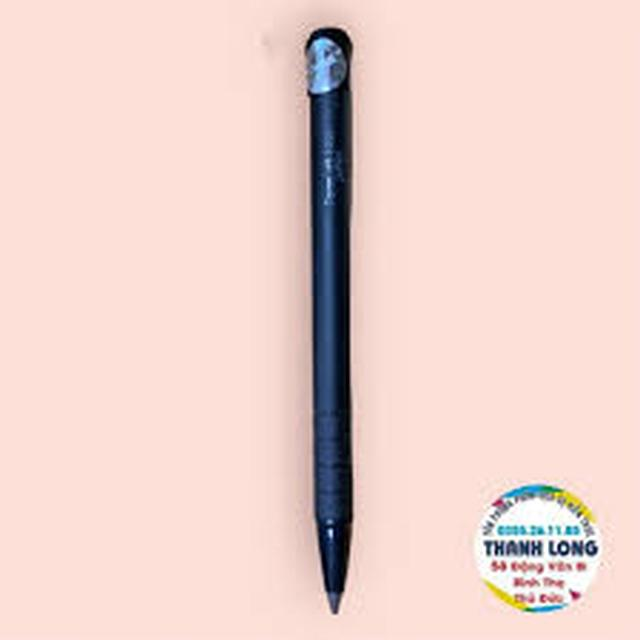pen: (284, 21, 364, 617)
